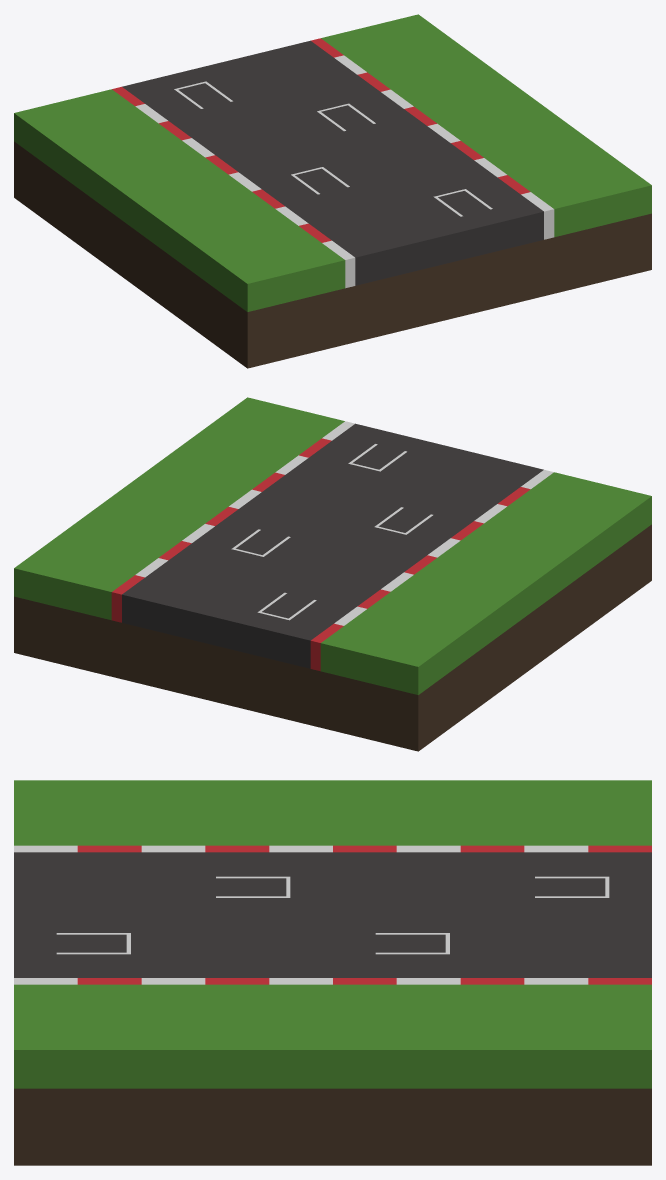
Rendered from tiles-tile-race-track-start-grid.glb.
3 views of the same model, one above another, from view 1: azimuth 30°, elevation 25°; view 2: azimuth 150°, elevation 25°; view 3: azimuth 270°, elevation 25° (orthographic). The views are drawn at different scales.
Visible parts, largest first — view 1: tile-race-track-start-grid; view 2: tile-race-track-start-grid; view 3: tile-race-track-start-grid.
Part boxes in pixels (x1=…): tile-race-track-start-grid: x1=14, y1=14, x2=651, y2=368; tile-race-track-start-grid: x1=14, y1=397, x2=651, y2=751; tile-race-track-start-grid: x1=14, y1=780, x2=651, y2=1165.
Size of the model in its own units: 30 by 6 by 30.
